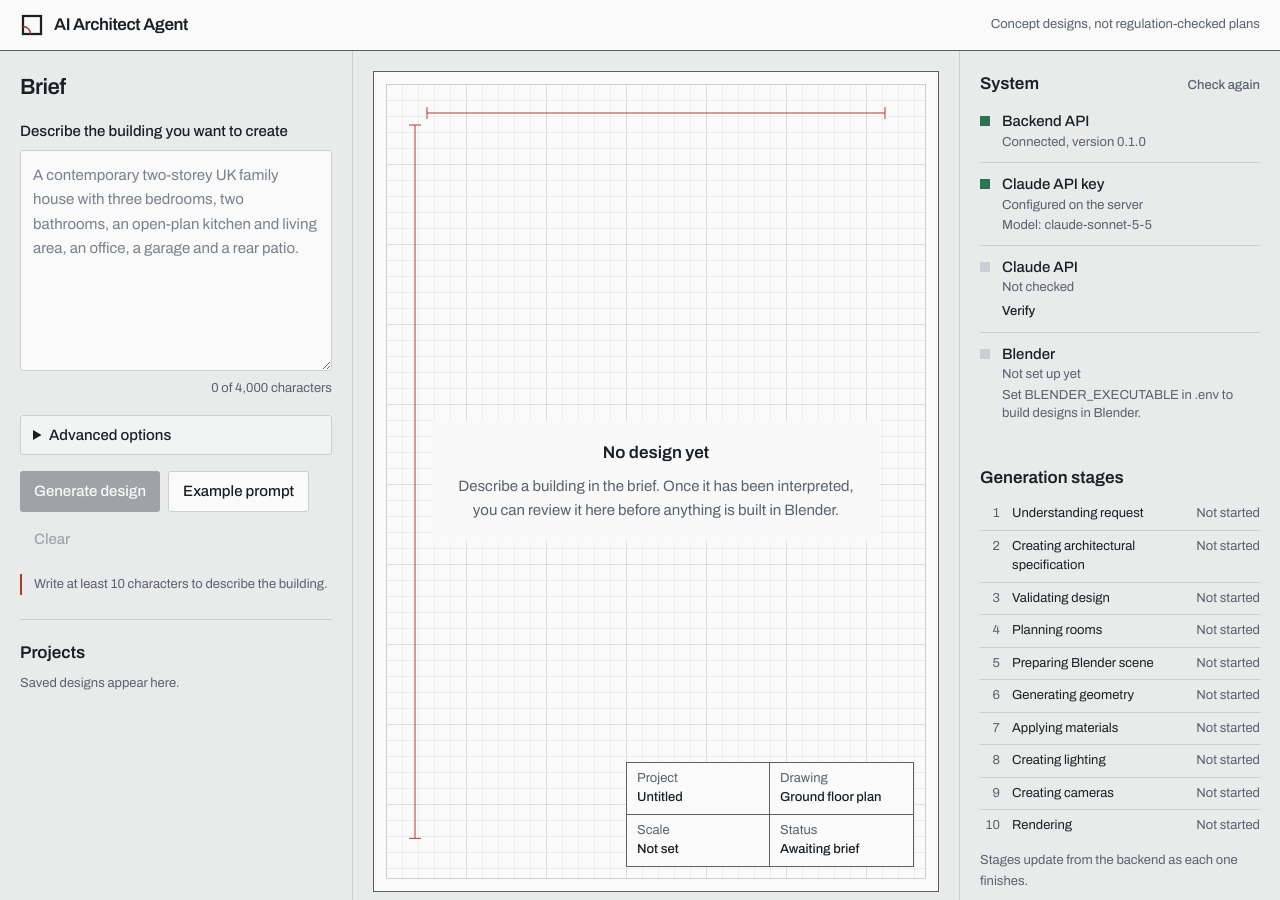
Test case: App › explains a failed interpretation and lists the problems
Expected: the text "Connected, version 0.1.0" is shown, [1002,132,1146,152]
In the text box labelled "Describe the building you want to create": (176, 260) [20,150,332,371], type "A two-storey family house with three bedrooms and a garage."
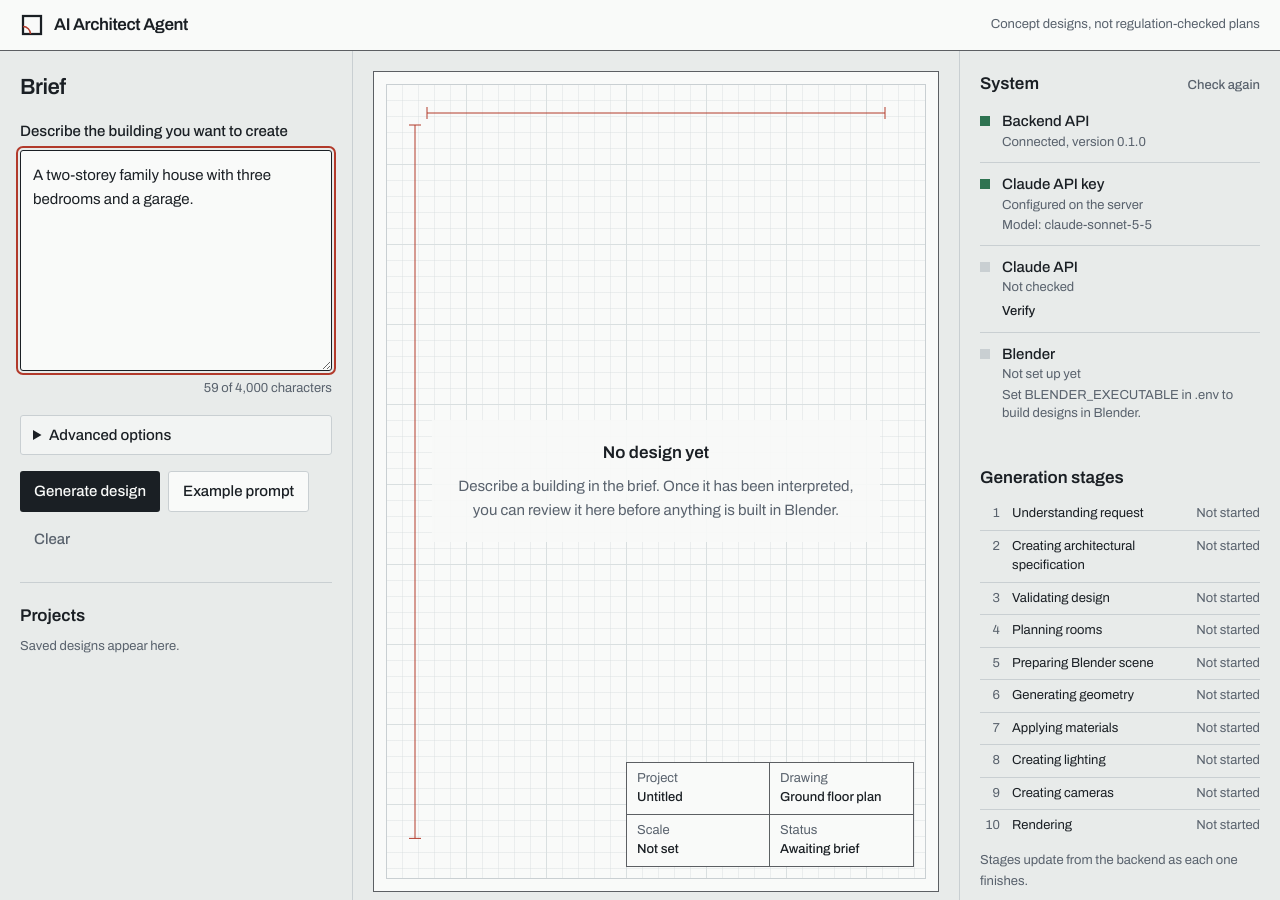
Click the button "Generate design": click(90, 491) [20,471,160,512]
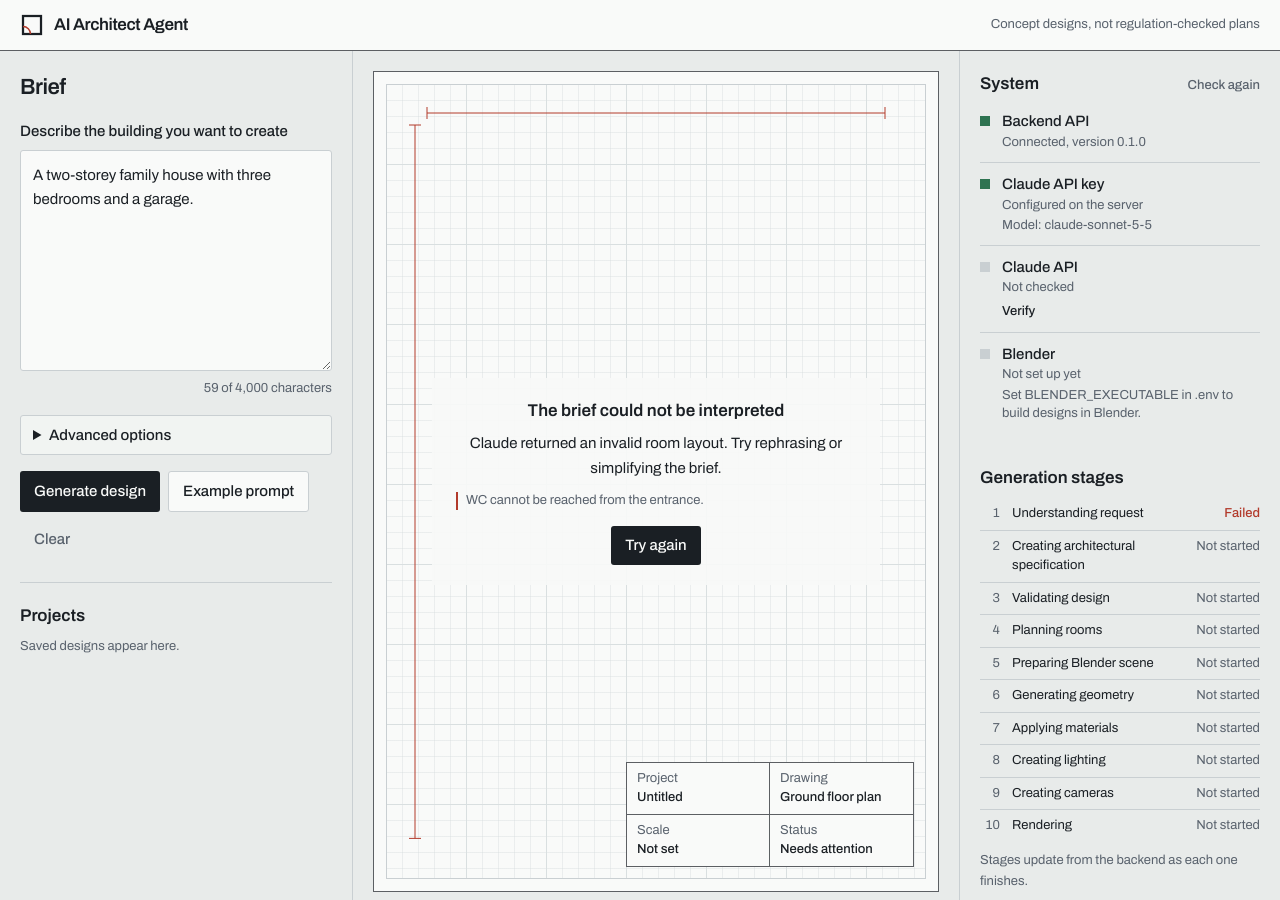
Now the text "Claude returned an invalid room layout" is shown, box [470,435,842,476]
Now the list item "WC cannot be reached from the entrance." is shown, box [456,492,856,510]
Now the text "Failed" is shown, box [1224,504,1260,524]
